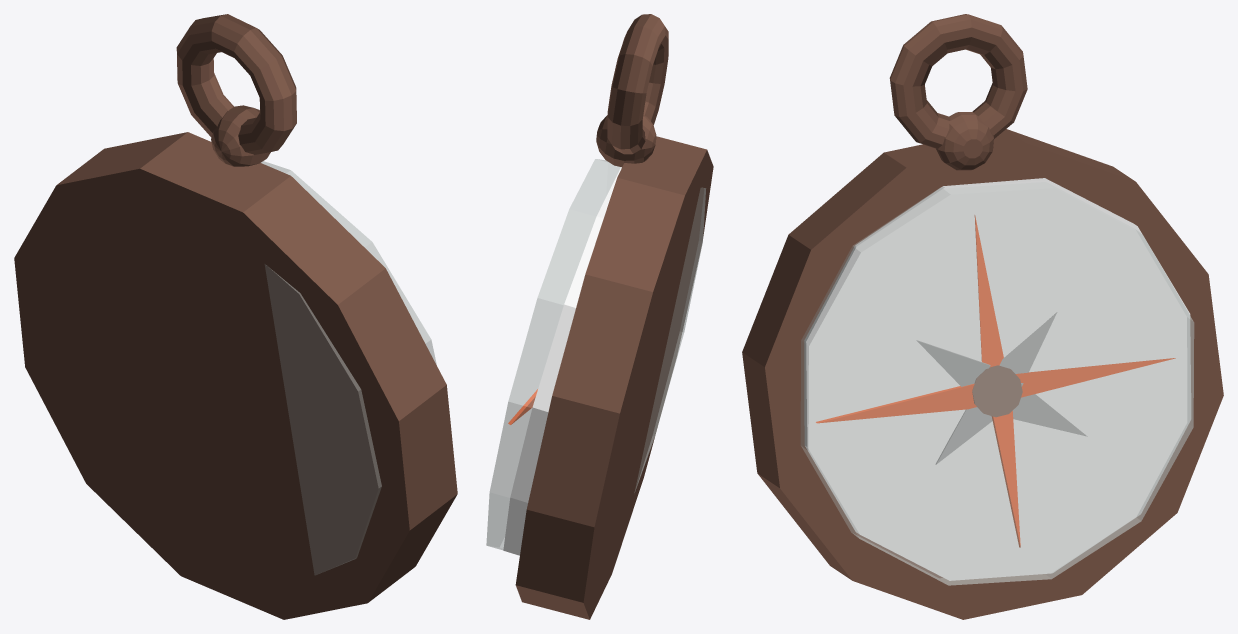
Rendered from compass.glb.
The picture shows the model from 3 angles, left to right: view 1: azimuth 30°, elevation 25°; view 2: azimuth 150°, elevation 25°; view 3: azimuth 270°, elevation 25°; orthographic projection. The views are drawn at different scales.
Visible parts, largest first — view 1: group1939652267, group752026683, group1100399818, group2069367421; view 2: group1939652267, group752026683, group1100399818, group557774619, group2069367421; view 3: group752026683, group557774619, group1939652267, group1100399818, group2069367421, group803601968, group124044278, group1312797231, group611936830, group957726638, group2121298858, group1838783315 (+2 smaller).
Boxes of the visible parts, x1,y1,x2,y2 form: group1939652267: (14, 132, 457, 619); group752026683: (261, 161, 436, 575); group1100399818: (176, 14, 296, 154); group2069367421: (211, 105, 270, 166); group1939652267: (515, 136, 713, 619); group752026683: (486, 159, 705, 549); group1100399818: (607, 14, 668, 154); group557774619: (503, 167, 621, 555); group2069367421: (596, 115, 656, 167); group752026683: (801, 182, 1194, 585); group557774619: (804, 178, 1190, 580); group1939652267: (742, 129, 1223, 619); group1100399818: (889, 14, 1027, 148); group2069367421: (936, 112, 993, 170); group803601968: (816, 384, 976, 423); group124044278: (1016, 358, 1175, 397); group1312797231: (972, 365, 1022, 416); group611936830: (974, 215, 1003, 367); group957726638: (991, 411, 1020, 547); group2121298858: (1013, 394, 1087, 436); group1838783315: (916, 340, 990, 386).
Bounding box in the file's own units: 0.216 × 0.5191 × 0.3988.
